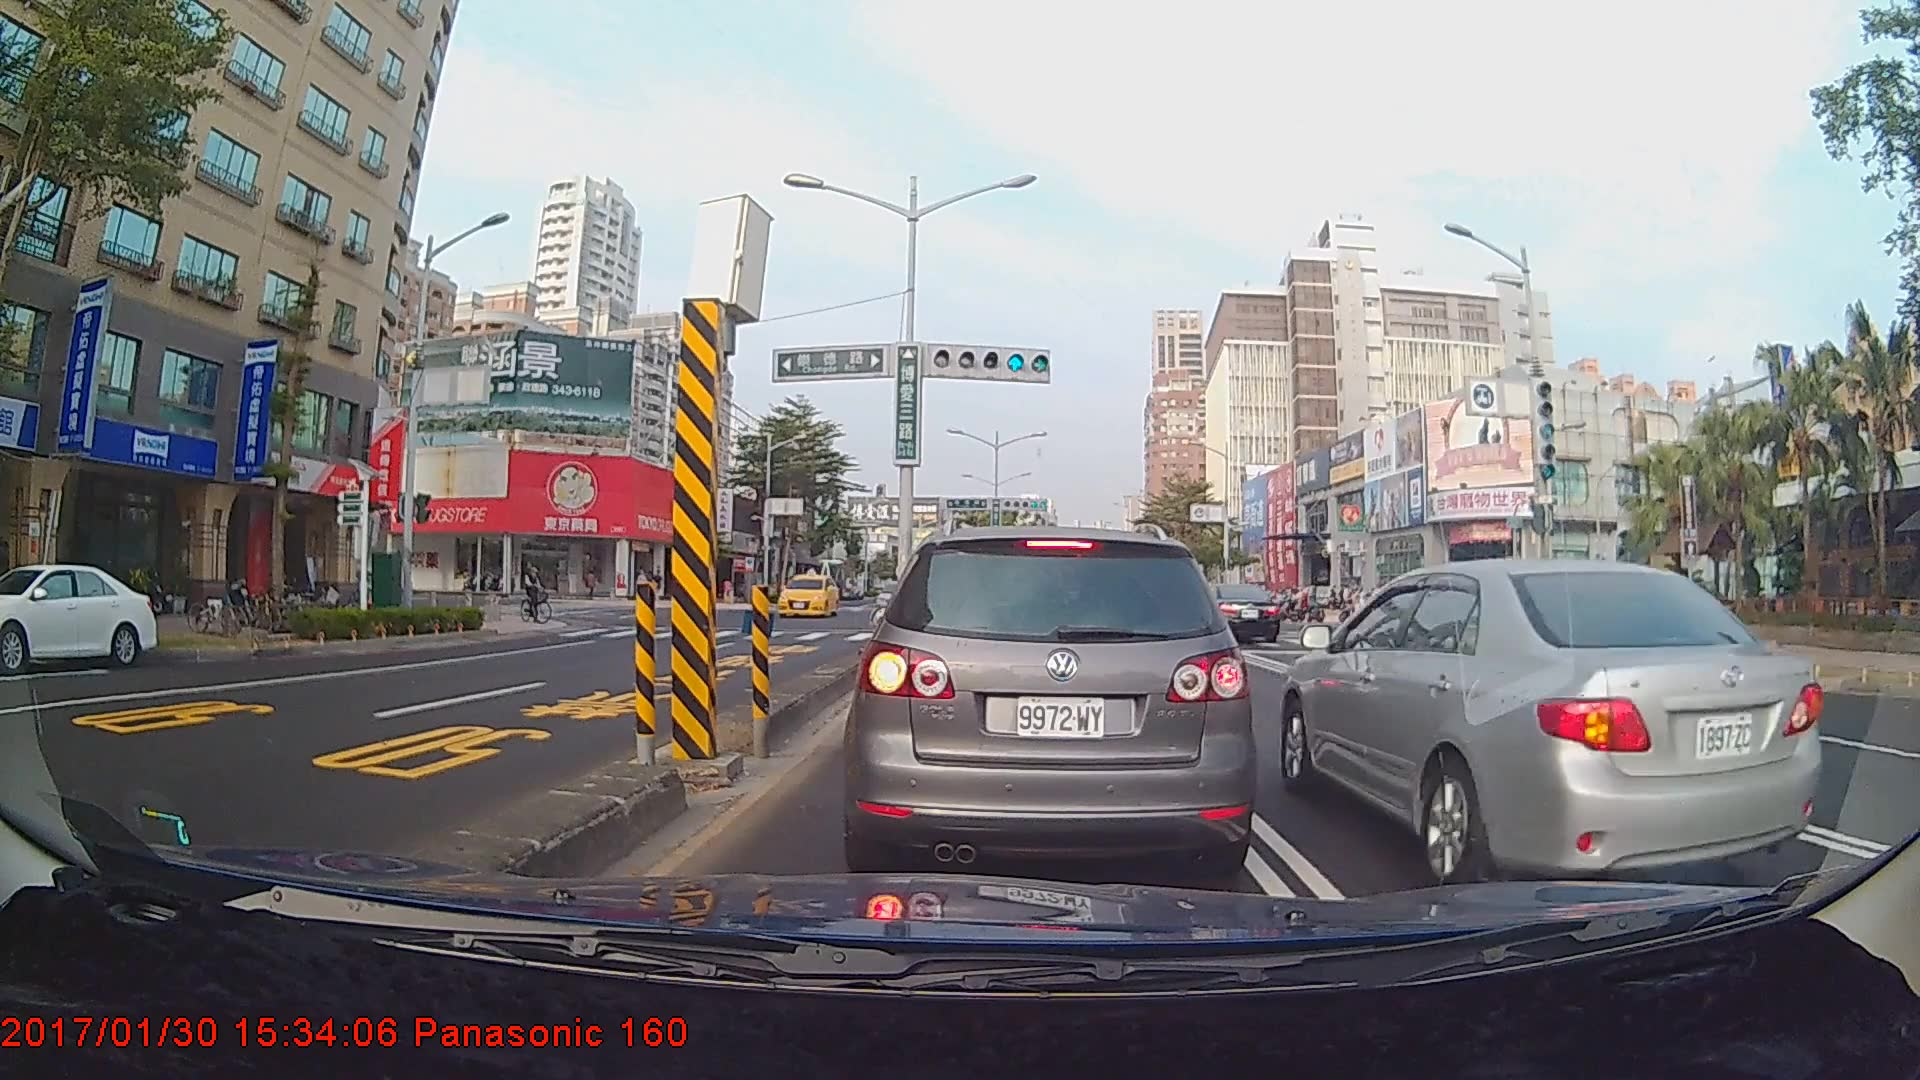rider: (518, 559, 561, 629)
vehicle: (1278, 554, 1823, 890), (856, 523, 1249, 876), (0, 561, 162, 671), (1190, 580, 1281, 644), (774, 575, 838, 619)
